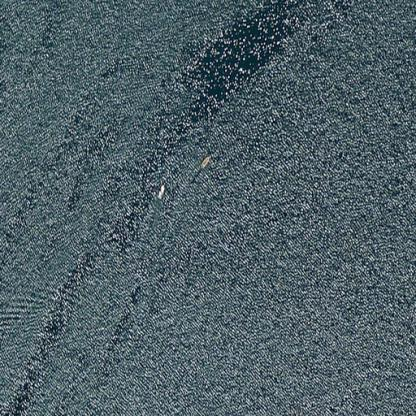ship: (193, 151, 214, 170), (153, 179, 170, 200)
